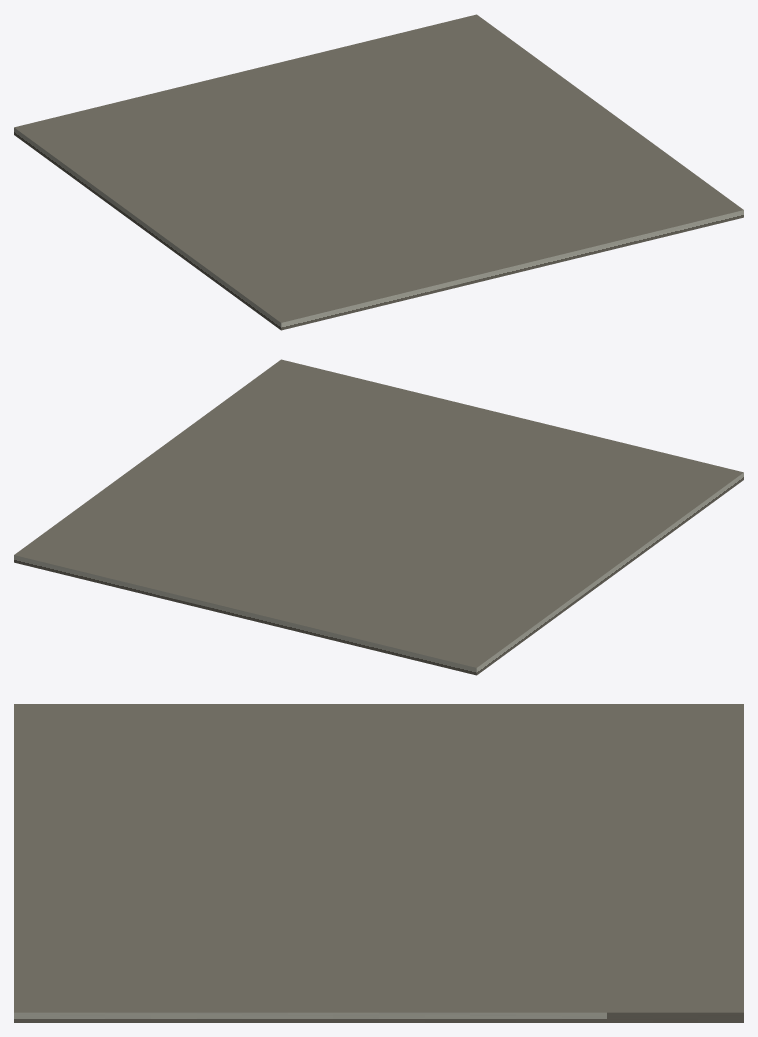
Rendered from ceiling_3c.glb.
The picture shows the model from 3 angles, top to bottom: view 1: azimuth 30°, elevation 25°; view 2: azimuth 150°, elevation 25°; view 3: azimuth 270°, elevation 25°; orthographic projection. The views are drawn at different scales.
Visible parts, largest first — view 1: ceiling_edge; view 2: ceiling_edge; view 3: ceiling_edge.
Boxes of the visible parts, box(x1,y1,x2,y2) form: ceiling_edge: box(14, 14, 743, 330); ceiling_edge: box(14, 359, 743, 675); ceiling_edge: box(14, 704, 743, 1022).
Size of the model in its own units: 2 by 0.0538 by 2.
1 material, 1 textured.
